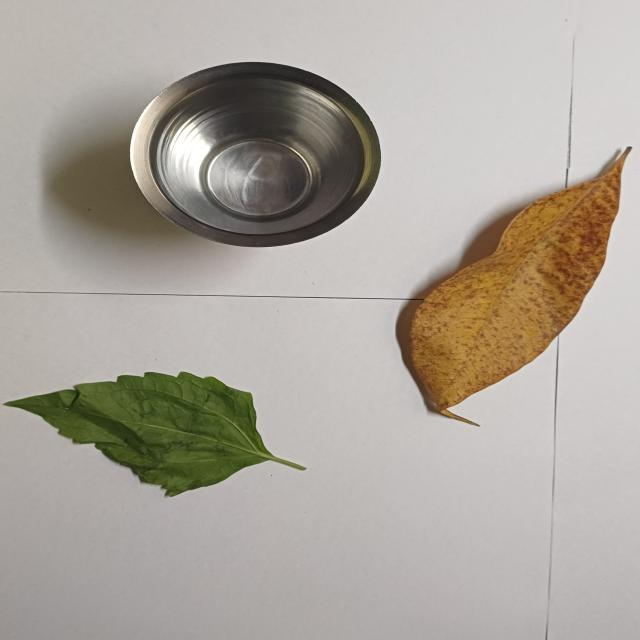Leaf-Bio: (403, 140, 640, 430), (3, 366, 310, 502)
Steel-NonBio: (124, 59, 388, 250)
